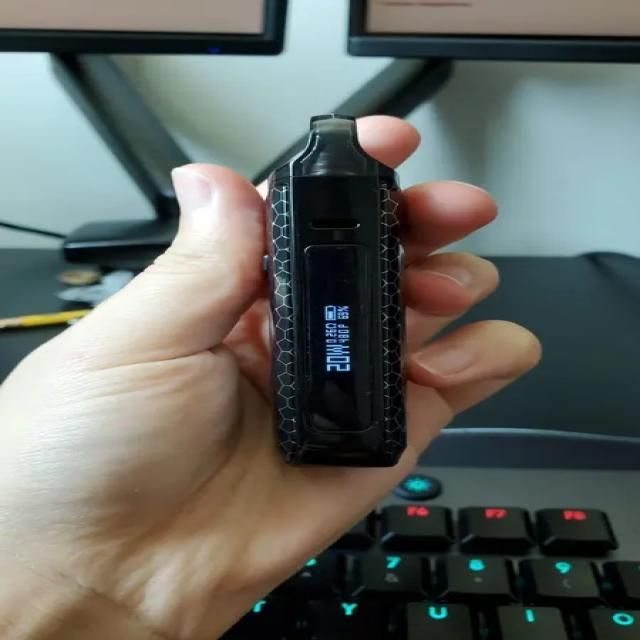Hazard: (273, 112, 410, 469)
